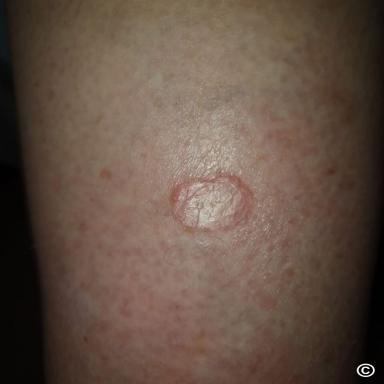Porokeratosis: (172, 173, 253, 231)
